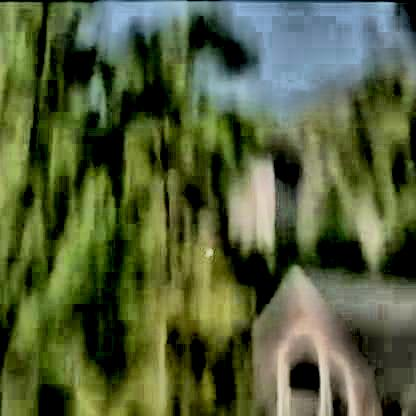golfball: (201, 244, 212, 255)
